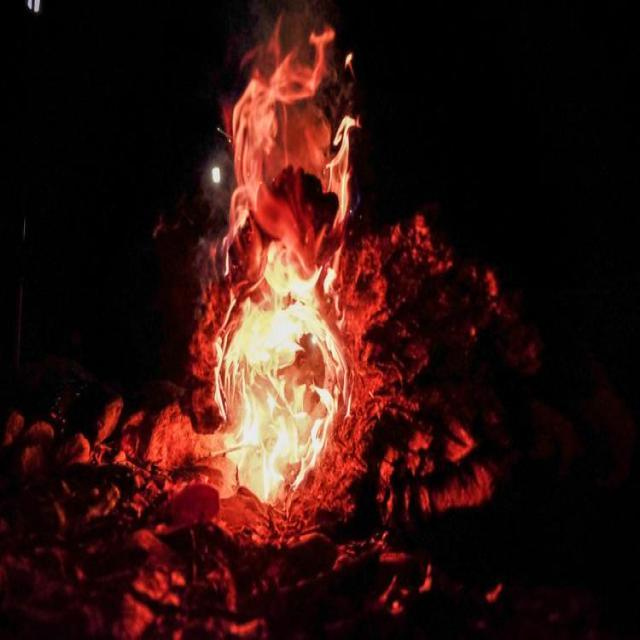Fire: (216, 115, 354, 502)
